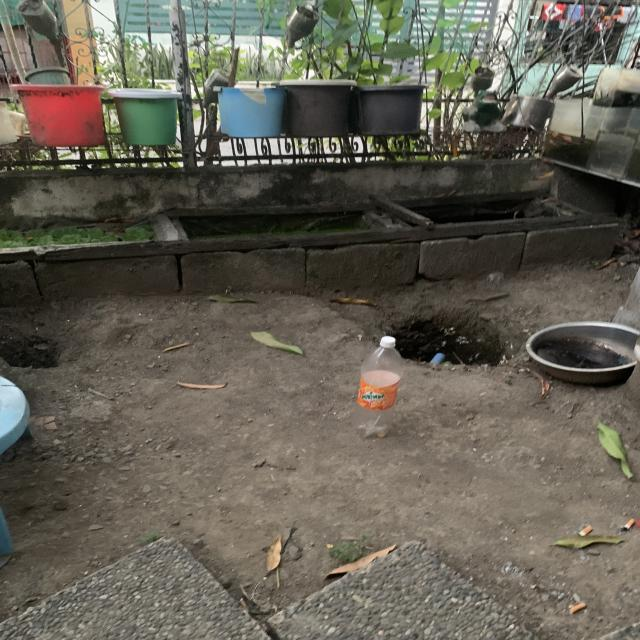Bottle: (352, 336, 403, 437)
